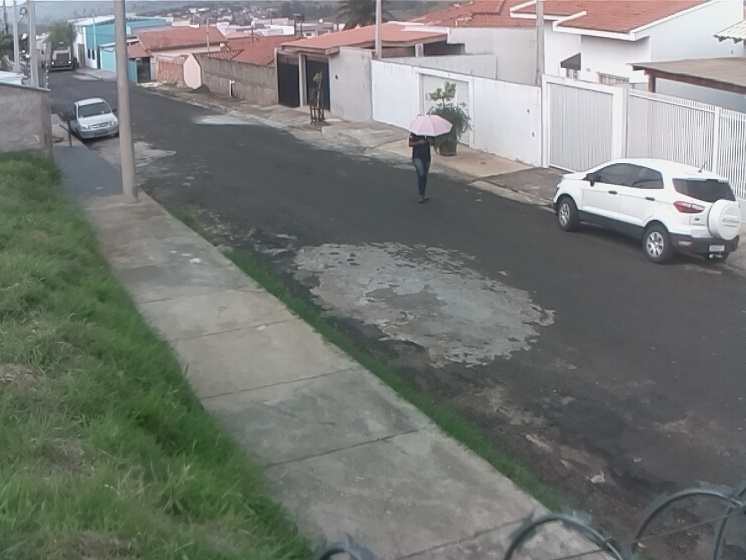person: (406, 115, 439, 206)
